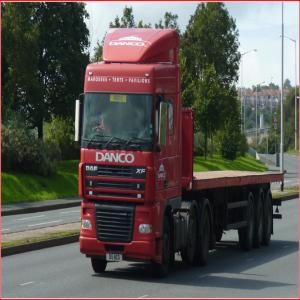Vehicle-registration-plate: (106, 253, 124, 263)
